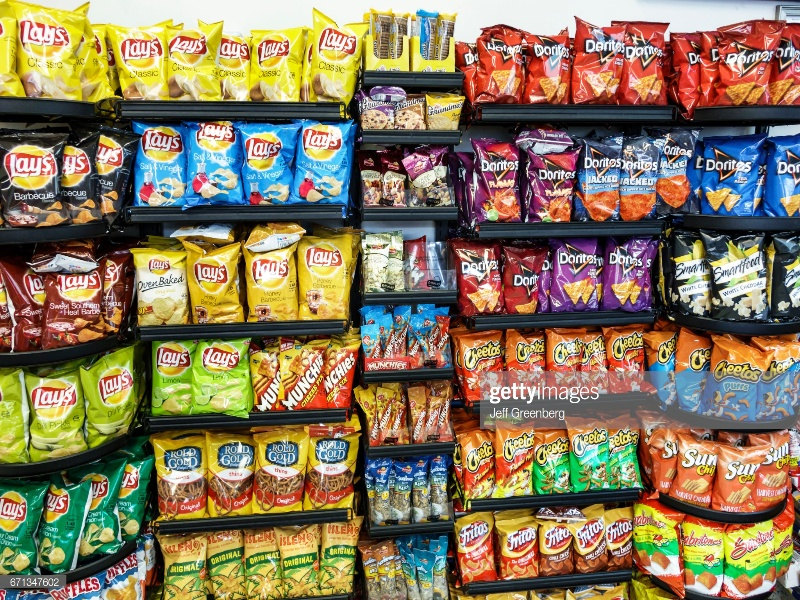lays-med: (289, 115, 360, 208), (1, 130, 68, 227), (15, 5, 78, 101), (185, 247, 250, 326), (246, 120, 301, 213), (36, 369, 87, 468), (187, 121, 240, 204), (134, 251, 194, 324), (90, 346, 138, 437), (138, 121, 190, 205), (45, 266, 100, 344), (250, 240, 299, 326), (299, 240, 349, 323), (34, 484, 81, 569), (1, 485, 41, 575), (95, 136, 136, 222), (205, 335, 243, 418), (59, 135, 97, 216), (157, 344, 200, 414)
